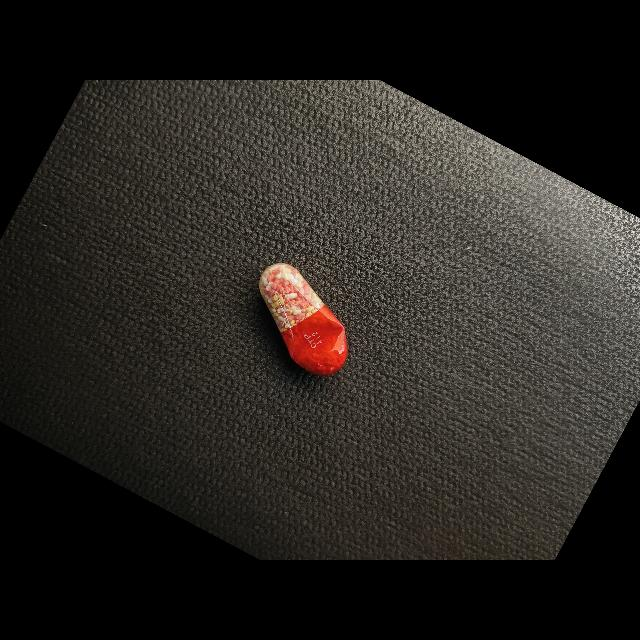Defective Capsule: (259, 263, 348, 375)
